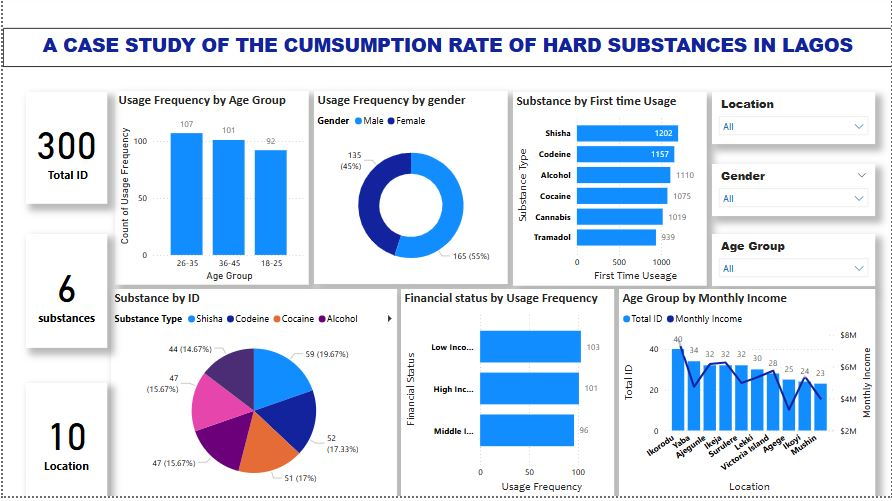

The dashboard page shown, as its layout file describes it:
{"tool":"powerbi","page":{"name":"Page 1","canvas":[1280,720],"ordinal":0},"visuals":[{"type":"clusteredColumnChart","title":"Usage Frequency by Age Group","fields":{"Category":["substance usage in lagas.Age Group"],"Y":["CountNonNull(substance usage in lagas.Usage Frequency)"]},"box":[161.3,136.8,279.4,279.4],"z":0},{"type":"donutChart","title":"Usage Frequency by gender","fields":{"Category":["substance usage in lagas.Gender"],"Y":["CountNonNull(substance usage in lagas.Usage Frequency)"]},"box":[447.8,136.8,279.4,277.9],"z":1000},{"type":"barChart","title":"Substance by First time Usage","fields":{"Y":["Sum(substance usage in lagas.First Time Use Age)"],"Category":["substance usage in lagas.Substance Type"]},"box":[734.1,137.7,278.8,278.8],"z":2000},{"type":"pieChart","title":"Substance by ID","fields":{"Category":["substance usage in lagas.Substance Type"],"Y":["CountNonNull(substance usage in lagas.ID)"]},"box":[156.2,421.6,411.5,299],"z":3000},{"type":"barChart","title":"Financial status by Usage Frequency","fields":{"Category":["substance usage in lagas.Financial Status"],"Y":["CountNonNull(substance usage in lagas.Usage Frequency)"]},"box":[573.1,421.9,306.7,298.1],"z":4000},{"type":"slicer","title":"location","fields":{"Values":["substance usage in lagas.Location"]},"box":[1021,138.2,234.7,74.9],"z":5000},{"type":"slicer","title":"location","fields":{"Values":["substance usage in lagas.Gender"]},"box":[1021,241.9,234.7,74.9],"z":6000},{"type":"slicer","title":"location","fields":{"Values":["substance usage in lagas.Age Group"]},"box":[1021,342.7,234.7,74.9],"z":7000},{"type":"textbox","box":[0,46.1,1280.2,56.2],"z":8000},{"type":"card","title":"substance by first time usage","fields":{"Values":["CountNonNull(substance usage in lagas.ID)"]},"box":[33.1,138.2,116.6,161.3],"z":9000},{"type":"lineStackedColumnComboChart","title":"Age Group by Monthly Income","fields":{"Category":["substance usage in lagas.Location"],"Y":["CountNonNull(substance usage in lagas.ID)"],"Y2":["Sum(substance usage in lagas.Monthly Income (₦))"]},"box":[887,421.9,368.6,298.1],"z":10000},{"type":"card","title":"substance by first time usage","fields":{"Values":["Count(substance usage in lagas.Substance Type)"]},"box":[33.1,342.7,116.6,164.2],"z":11000},{"type":"card","title":"substance by first time usage","fields":{"Values":["Count(substance usage in lagas.Location)"]},"box":[33.1,557.3,116.6,162.7],"z":12000}]}

Visuals, with their boxes in screenshot pixels (x1, y1, x2, y2), scaled from the page's 1280x720 canvas onto the 892x501 screenshot:
"Usage Frequency by Age Group" clusteredColumnChart: box=[112, 95, 307, 290]
"Usage Frequency by gender" donutChart: box=[312, 95, 507, 289]
"Substance by First time Usage" barChart: box=[512, 96, 706, 290]
"Substance by ID" pieChart: box=[109, 293, 396, 500]
"Financial status by Usage Frequency" barChart: box=[399, 294, 613, 500]
"location" slicer: box=[712, 96, 875, 148]
"location" slicer: box=[712, 168, 875, 220]
"location" slicer: box=[712, 238, 875, 291]
textbox: box=[0, 32, 891, 71]
"substance by first time usage" card: box=[23, 96, 104, 208]
"Age Group by Monthly Income" lineStackedColumnComboChart: box=[618, 294, 875, 500]
"substance by first time usage" card: box=[23, 238, 104, 353]
"substance by first time usage" card: box=[23, 388, 104, 500]
